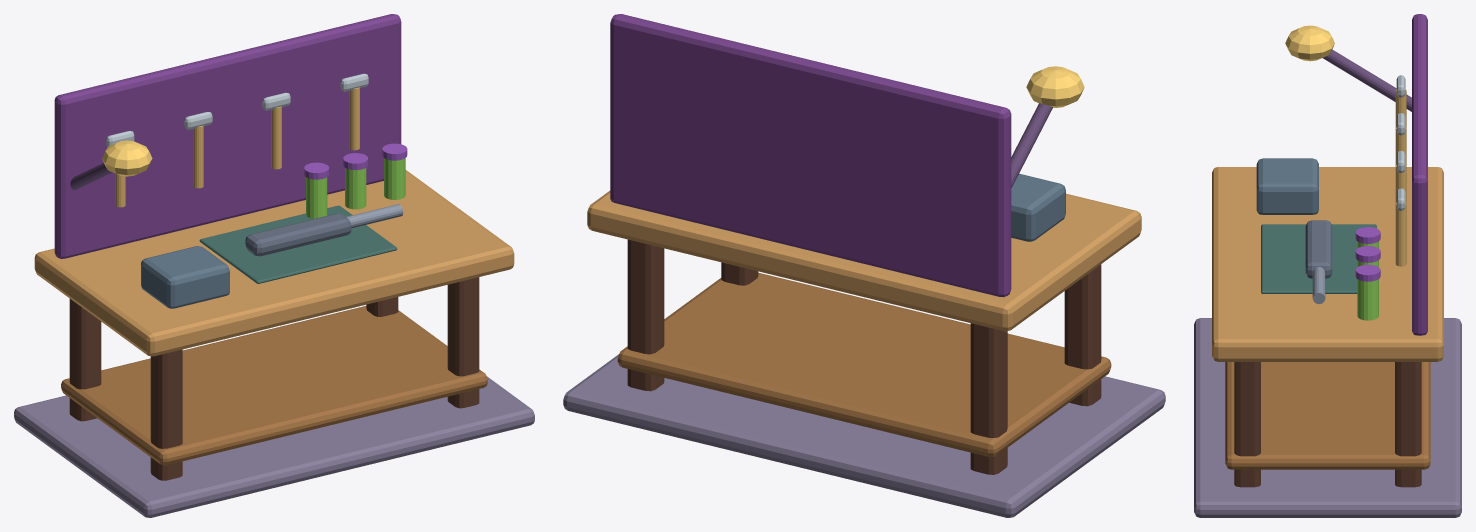
The model's file is WeaponWorkbench.glb.
3 renders of one model, left to right at view 1: azimuth 30°, elevation 25°; view 2: azimuth 150°, elevation 25°; view 3: azimuth 270°, elevation 25°, orthographic. The views are drawn at different scales.
Parts seen in each view (by area): view 1: Backboard, Shelf, Desk, Floor, WeaponMat, Vice, Leg.002, Leg.004, Leg.003, RifleReceiver, Lamp.001, Mutagen.002 (+6 smaller); view 2: Backboard, Shelf, Floor, Desk, Leg.003, Leg.005, Leg.002, Vice, Lamp.001, LampArm; view 3: Desk, Floor, Shelf, WeaponMat, Backboard, Vice, Leg.004, Leg.005, RifleReceiver, Lamp.001, LampArm, Mutagen.002 (+5 smaller).
Part boxes in pixels (bbox=[...]): Backboard: bbox=[54, 14, 401, 258]; Shelf: bbox=[61, 306, 487, 465]; Desk: bbox=[34, 170, 514, 356]; Floor: bbox=[14, 376, 534, 517]; WeaponMat: bbox=[199, 205, 397, 283]; Vice: bbox=[141, 246, 229, 308]; Leg.002: bbox=[150, 349, 182, 480]; Leg.004: bbox=[447, 277, 479, 408]; Leg.003: bbox=[69, 299, 101, 421]; RifleReceiver: bbox=[245, 213, 351, 256]; Lamp.001: bbox=[102, 140, 152, 176]; Mutagen.002: bbox=[384, 158, 405, 199]; Backboard: bbox=[610, 14, 1011, 297]; Shelf: bbox=[617, 272, 1111, 456]; Floor: bbox=[563, 354, 1165, 517]; Desk: bbox=[587, 190, 1141, 331]; Leg.003: bbox=[970, 323, 1007, 474]; Leg.005: bbox=[627, 239, 664, 391]; Leg.002: bbox=[1064, 264, 1101, 406]; Vice: bbox=[1011, 173, 1065, 241]; Lamp.001: bbox=[1026, 66, 1084, 107]; LampArm: bbox=[1011, 103, 1052, 187]; Desk: bbox=[1212, 167, 1443, 361]; Floor: bbox=[1194, 318, 1461, 517]; Shelf: bbox=[1225, 362, 1430, 469]; WeaponMat: bbox=[1261, 224, 1376, 293]; Backboard: bbox=[1412, 14, 1427, 335]; Vice: bbox=[1256, 158, 1318, 214]; Leg.004: bbox=[1234, 362, 1260, 487]; Leg.005: bbox=[1395, 362, 1421, 487]; RifleReceiver: bbox=[1305, 220, 1332, 278]; Lamp.001: bbox=[1285, 25, 1334, 61]; LampArm: bbox=[1323, 49, 1411, 111]; Mutagen.002: bbox=[1357, 279, 1378, 320].
Bounding box in the file's own units: 5 × 4.1 × 3.
